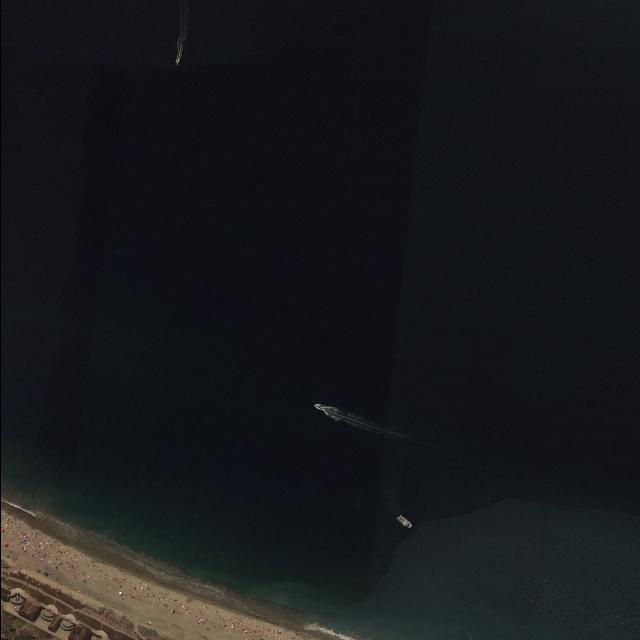ship: (396, 514, 412, 528), (313, 403, 319, 408), (175, 60, 179, 66)
